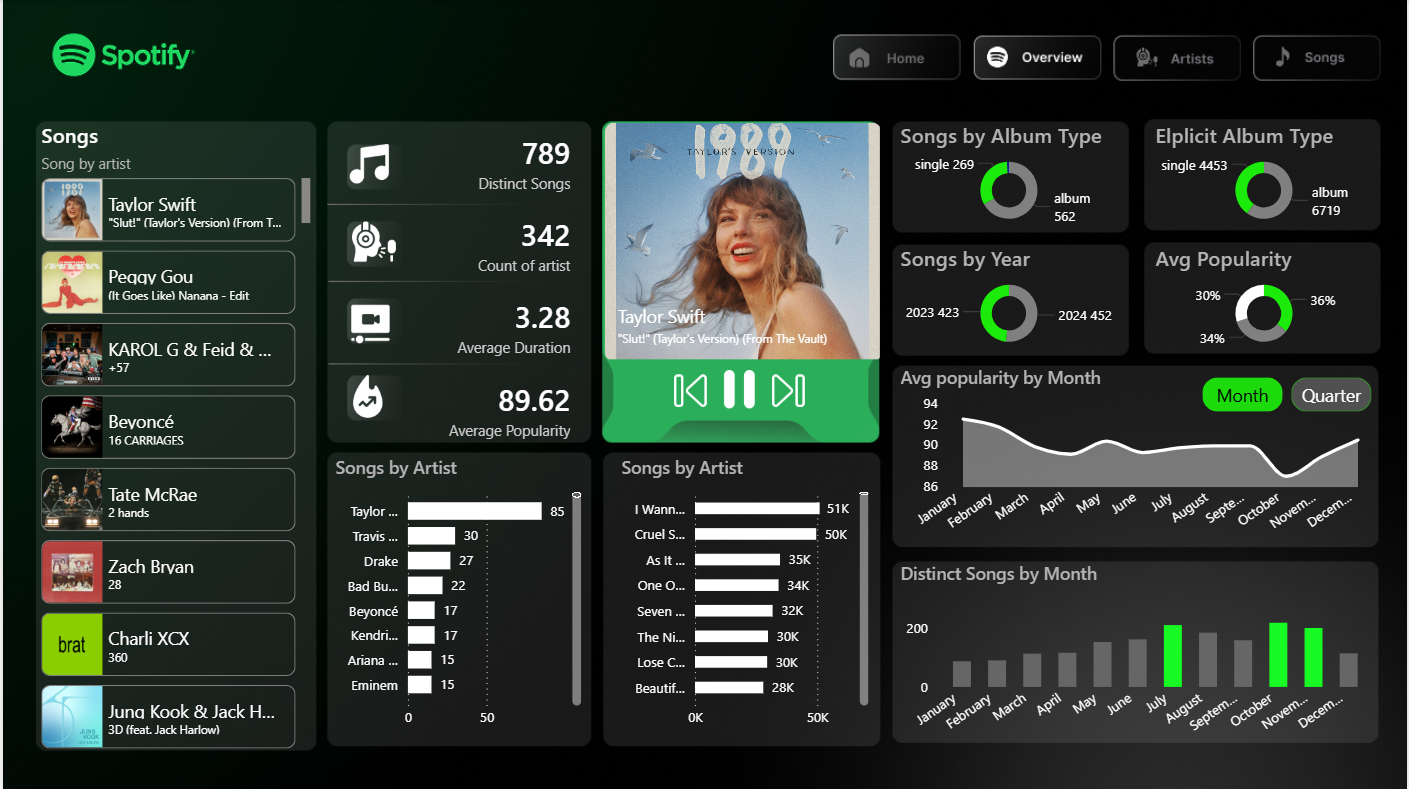

What the dashboard file says about the page in this screenshot:
{"tool":"powerbi","page":{"name":"Overview","canvas":[1280,720],"ordinal":1},"visuals":[{"type":"actionButton","box":[754.2,28.6,118.1,46.7],"z":0,"group":"g1"},{"type":"image","box":[641.3,337.6,58.4,35.1],"z":0,"group":"g2"},{"type":"barChart","title":"Songs by Artist","fields":{"Category":["Top-50-World.artist"],"Y":["_Measures.Distinct Songs"]},"box":[297.6,414.5,233.9,257.3],"z":0},{"type":"actionButton","box":[882.7,28.6,118.1,46.7],"z":1000,"group":"g1"},{"type":"image","box":[690.6,338.9,50.6,33.8],"z":1000,"group":"g2"},{"type":"barChart","title":"Songs by Artist","fields":{"Category":["Top-50-World.song"],"Y":["Sum(Top-50-World.popularity)"]},"box":[558.8,414.5,235.2,257.3],"z":1000},{"type":"actionButton","box":[1011.2,28.6,118.1,46.7],"z":2000,"group":"g1"},{"type":"areaChart","title":"Avg popularity by Month","fields":{"Category":["Top-50-World.Month"],"Y":["Avg(Top-50-World.popularity)"]},"box":[812.7,332.3,440.1,162.3],"z":2000},{"type":"image","box":[601,338.9,49.3,33.8],"z":2000,"group":"g2"},{"type":"actionButton","box":[1139.8,28.6,118.1,46.7],"z":3000,"group":"g1"},{"type":"shape","box":[536,98.7,257,301.2],"z":3000,"group":"g2"},{"type":"advancedSlicerVisual","fields":{"Values":["Slicer_option.Slicer_option"]},"box":[1087.9,338.8,164.9,41.5],"z":3000},{"type":"donutChart","title":"Songs by Album Type","fields":{"Category":["Top-50-World.album_type"],"Y":["_Measures.Distinct Songs"]},"box":[812.7,110.3,207.7,101.3],"z":4000},{"type":"donutChart","title":"Elplicit Album Type","fields":{"Category":["Top-50-World.album_type"],"Y":["_Measures.Explicit Songs Count"]},"box":[1045,110.3,207.7,101.3],"z":5000},{"type":"donutChart","title":"Songs by Year","fields":{"Category":["Top-50-World.Year"],"Y":["_Measures.Distinct Songs"]},"box":[812.7,222,207.7,101.3],"z":6000},{"type":"donutChart","title":"Avg Popularity ","fields":{"Category":["Top-50-World.album_type"],"Y":["_Measures.Average Popularity"]},"box":[1045,222,207.7,101.3],"z":7000},{"type":"clusteredColumnChart","fields":{"Category":["Top-50-World.Month"],"Y":["_Measures.Distinct Songs"]},"box":[812.7,511.5,440.1,168.8],"z":8000},{"type":"cardVisual","fields":{"Data":["_Measures.Distinct Songs"]},"box":[379.1,98.7,167.5,100],"z":9000},{"type":"cardVisual","fields":{"Data":["Count(Top-50-World.artist)"]},"box":[379.1,173.5,167.5,100],"z":10000},{"type":"cardVisual","fields":{"Data":["_Measures.Average Duration (Min)"]},"box":[367.4,248,179.1,100],"z":11000},{"type":"cardVisual","fields":{"Data":["_Measures.Average Popularity"]},"box":[358.3,323.2,188.2,100],"z":12000},{"type":"image","box":[318.1,341.4,40.2,38.9],"z":13000},{"type":"image","box":[318.1,193.4,40.2,54.5],"z":14000},{"type":"image","box":[299.9,131.1,67.5,36.3],"z":15000},{"type":"image","box":[299.9,273.9,70.1,41.5],"z":16000},{"type":"advancedSlicerVisual","title":"Songs","fields":{"Values":["Top-50-World.song"]},"box":[29.9,110.3,255.7,579],"z":17000},{"type":"group","id":"g1","title":"Group 1","box":[754.2,28.6,503.7,46.7],"z":18000},{"type":"advancedSlicerVisual","title":"Songs","fields":{"Values":["Top-50-World.song"]},"box":[521.9,105.6,303.8,228.5],"z":18000,"group":"g2"},{"type":"group","id":"g2","title":"Group 2","box":[521.9,98.7,303.8,301.2],"z":19000}]}

Visuals, with their boxes in screenshot pixels (x1, y1, x2, y2), scaled from the page's 1280x720 canvas onto the 1409x789 screenshot:
actionButton: region(830, 31, 960, 83)
image: region(706, 370, 770, 408)
"Songs by Artist" barChart: region(328, 454, 585, 736)
actionButton: region(972, 31, 1102, 83)
image: region(760, 371, 816, 408)
"Songs by Artist" barChart: region(615, 454, 874, 736)
actionButton: region(1113, 31, 1243, 83)
"Avg popularity by Month" areaChart: region(895, 364, 1379, 542)
image: region(662, 371, 716, 408)
actionButton: region(1255, 31, 1385, 83)
shape: region(590, 108, 873, 438)
advancedSlicerVisual - Slicer_option.Slicer_option: region(1198, 371, 1379, 417)
"Songs by Album Type" donutChart: region(895, 121, 1123, 232)
"Elplicit Album Type" donutChart: region(1150, 121, 1379, 232)
"Songs by Year" donutChart: region(895, 243, 1123, 354)
"Avg Popularity " donutChart: region(1150, 243, 1379, 354)
clusteredColumnChart - Top-50-World.Month x _Measures.Distinct Songs: region(895, 561, 1379, 745)
cardVisual - _Measures.Distinct Songs: region(417, 108, 602, 218)
cardVisual - Count(Top-50-World.artist): region(417, 190, 602, 300)
cardVisual - _Measures.Average Duration (Min): region(404, 272, 602, 381)
cardVisual - _Measures.Average Popularity: region(394, 354, 602, 464)
image: region(350, 374, 394, 417)
image: region(350, 212, 394, 272)
image: region(330, 144, 404, 183)
image: region(330, 300, 407, 346)
"Songs" advancedSlicerVisual: region(33, 121, 314, 755)
"Group 1" group: region(830, 31, 1385, 83)
"Songs" advancedSlicerVisual: region(574, 116, 909, 366)
"Group 2" group: region(574, 108, 909, 438)
